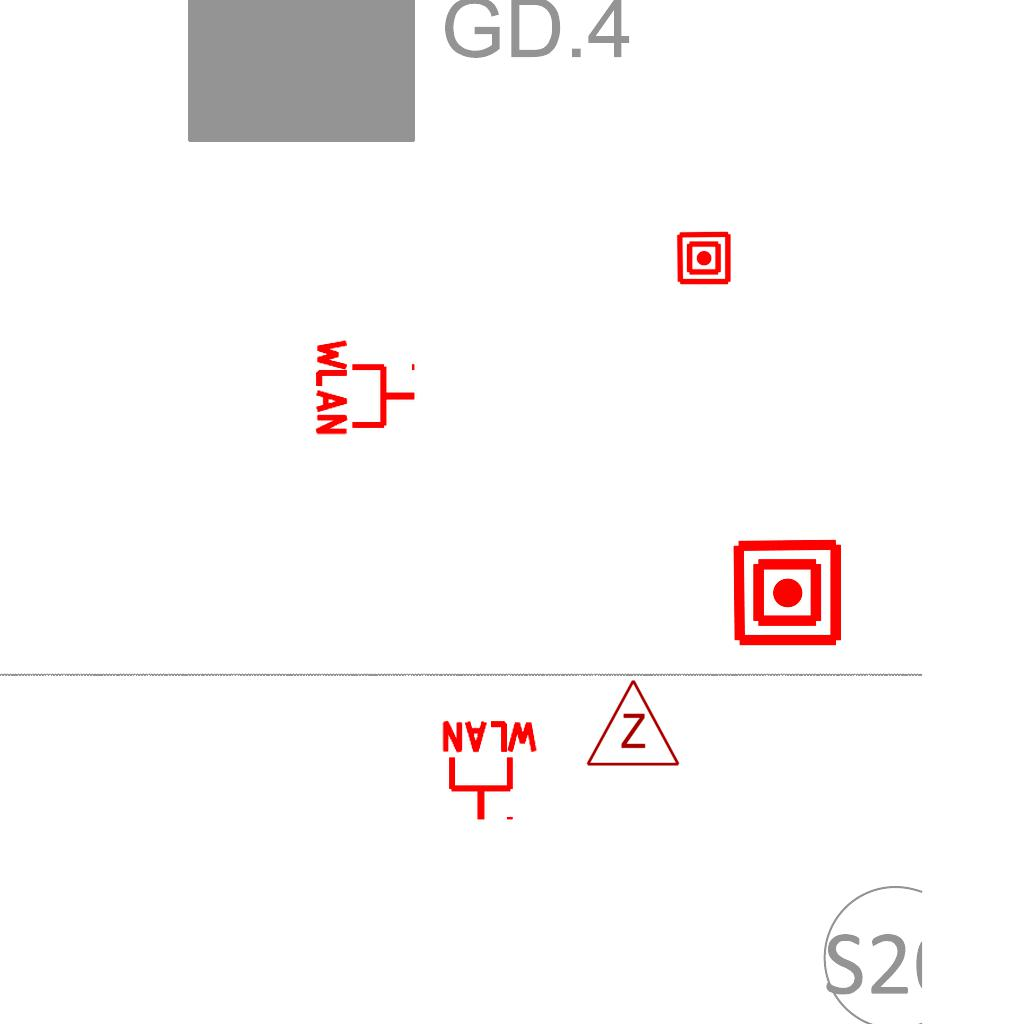NAM-Nichtautomatischer_Melder: (731, 536, 844, 649), (676, 230, 732, 286)
WLAN: (314, 335, 419, 439), (438, 719, 542, 824)
Zimmersignalleuchte: (583, 673, 681, 773)
